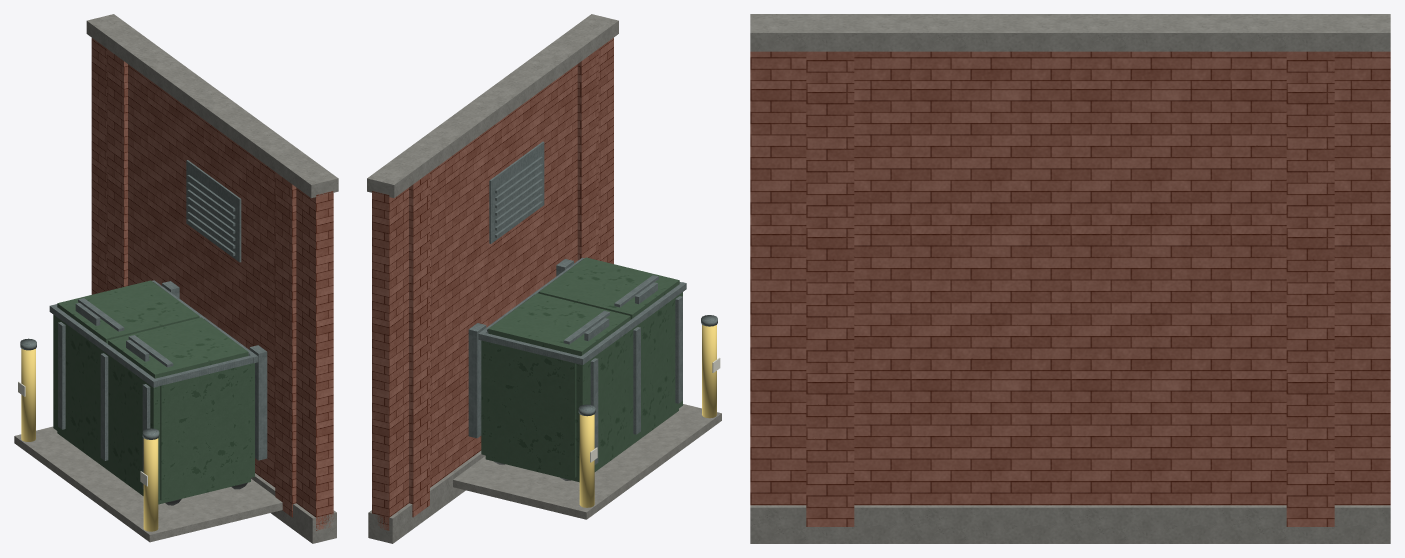
File: PZ_Alley_DumpsterBay_4M.glb
3 renders of one model, left to right at view 1: azimuth 30°, elevation 25°; view 2: azimuth 150°, elevation 25°; view 3: azimuth 270°, elevation 25°, orthographic. The views are drawn at different scales.
Visible parts, largest first — view 1: DumpsterBay_Backwall_BrickWall_Main, Dumpster_OuterWall_Front, Dumpster_OuterWall_Left, DumpsterBay_Backwall_Coping, DumpsterBay_ConcretePad, DumpsterBay_Backwall_ReinforcedPier_1, DumpsterBay_Backwall_ReinforcedPier_2, Dumpster_Lid_1_Sheet, Dumpster_Lid_2_Sheet, DumpsterBay_Backwall_VentFrame, DumpsterBay_Backwall_Footing, DumpsterBay_Bumper_95 (+9 smaller); view 2: DumpsterBay_Backwall_BrickWall_Main, Dumpster_OuterWall_Back, DumpsterBay_Backwall_Coping, Dumpster_OuterWall_Left, DumpsterBay_ConcretePad, DumpsterBay_Backwall_ReinforcedPier_2, Dumpster_Lid_2_Sheet, DumpsterBay_Backwall_ReinforcedPier_1, Dumpster_Lid_1_Sheet, DumpsterBay_Backwall_Footing, DumpsterBay_Backwall_VentFrame, DumpsterBay_Bumper_250 (+9 smaller); view 3: DumpsterBay_Backwall_BrickWall_Main, DumpsterBay_Backwall_Coping, DumpsterBay_Backwall_ReinforcedPier_1, DumpsterBay_Backwall_ReinforcedPier_2, DumpsterBay_Backwall_Footing.
Part boxes in pixels (x1,y1,x2,y2): DumpsterBay_Backwall_BrickWall_Main: (91,38,333,530); Dumpster_OuterWall_Front: (160,364,248,500); Dumpster_OuterWall_Left: (53,315,160,500); DumpsterBay_Backwall_Coping: (86,14,338,198); DumpsterBay_ConcretePad: (14,426,282,542); DumpsterBay_Backwall_ReinforcedPier_1: (275,172,296,517); DumpsterBay_Backwall_ReinforcedPier_2: (107,49,127,290); Dumpster_Lid_1_Sheet: (108,317,248,378); Dumpster_Lid_2_Sheet: (57,280,199,343); DumpsterBay_Backwall_VentFrame: (186,160,241,262); DumpsterBay_Backwall_Footing: (251,473,336,543); DumpsterBay_Bumper_95: (249,345,267,460); DumpsterBay_Backwall_BrickWall_Main: (372,37,613,530); Dumpster_OuterWall_Back: (487,342,576,477); DumpsterBay_Backwall_Coping: (367,14,618,197); Dumpster_OuterWall_Left: (576,292,682,478); DumpsterBay_ConcretePad: (453,404,721,519); DumpsterBay_Backwall_ReinforcedPier_2: (409,172,429,517); Dumpster_Lid_2_Sheet: (488,293,630,355); DumpsterBay_Backwall_ReinforcedPier_1: (577,49,598,260); Dumpster_Lid_1_Sheet: (539,257,679,319); DumpsterBay_Backwall_Footing: (368,451,485,543); DumpsterBay_Backwall_VentFrame: (489,141,544,243); DumpsterBay_Bumper_250: (468,323,486,438); DumpsterBay_Backwall_BrickWall_Main: (750,51,1390,505); DumpsterBay_Backwall_Coping: (750,14,1390,51); DumpsterBay_Backwall_ReinforcedPier_1: (806,51,854,526); DumpsterBay_Backwall_ReinforcedPier_2: (1286,51,1334,526); DumpsterBay_Backwall_Footing: (750,505,1390,543).
Size of the model in its own units: 1.65 by 3.53 by 4.
Materials: 7 (4 with a texture image).
